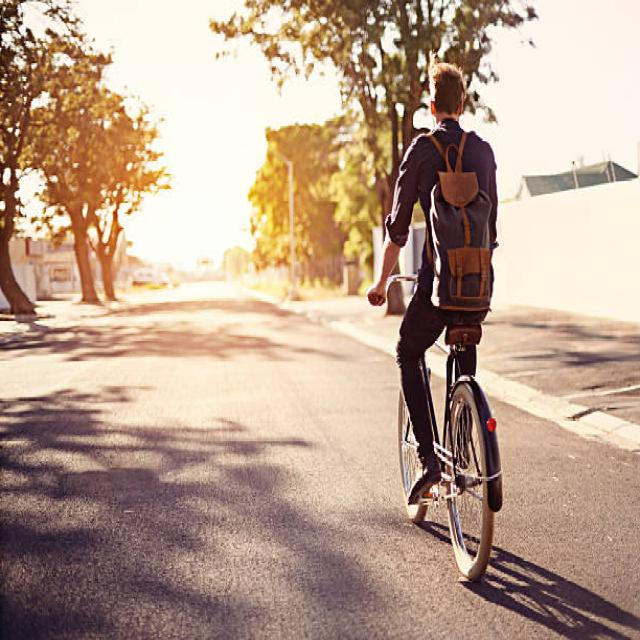bicycle: (368, 57, 502, 579)
